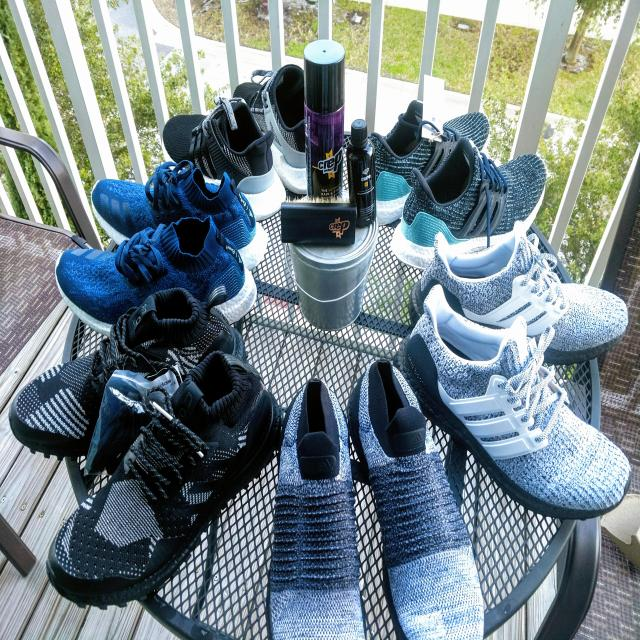shoes: (42, 342, 286, 622), (390, 289, 637, 529), (411, 211, 636, 370), (358, 351, 480, 640), (44, 198, 270, 337), (270, 356, 356, 640), (80, 150, 282, 270), (390, 130, 554, 276), (159, 91, 287, 201)
